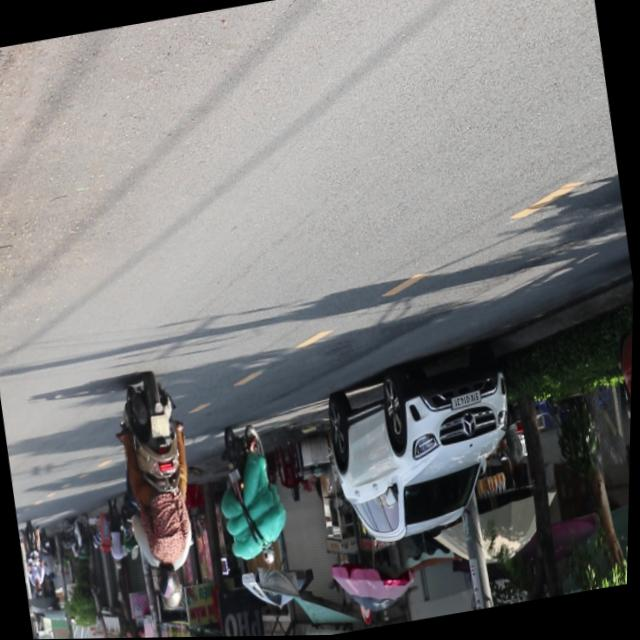helmet: (154, 556, 184, 602)
licenseplate: (105, 368, 218, 617)
nohelmet: (151, 413, 173, 439)
